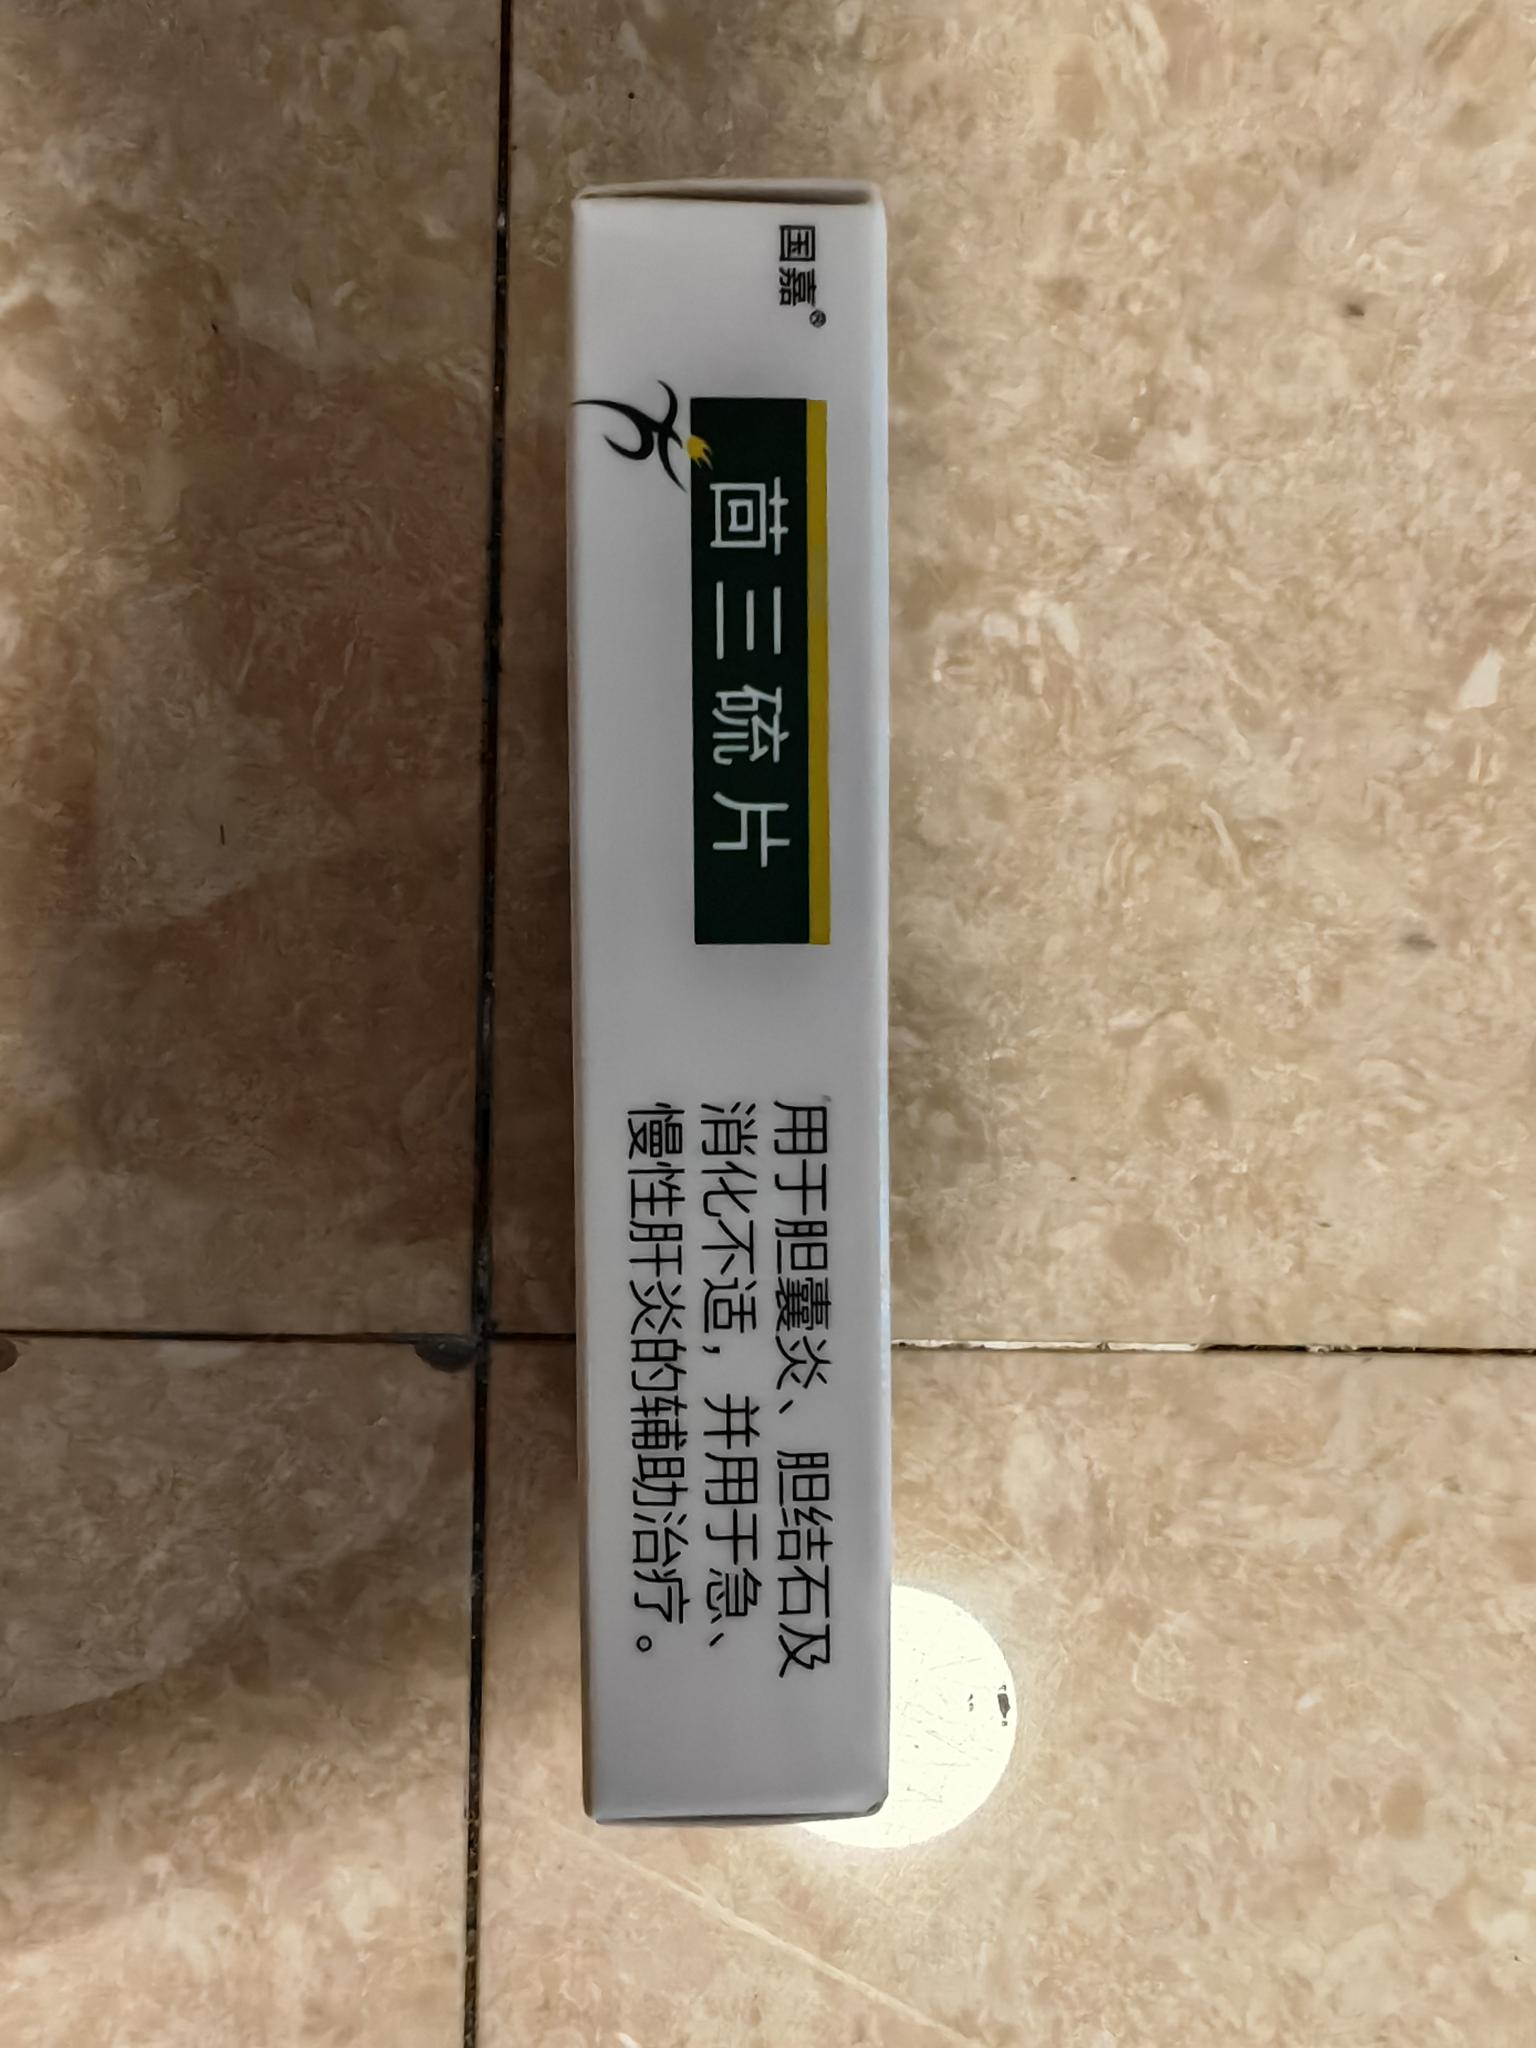Medicine4: (524, 158, 925, 1859)
